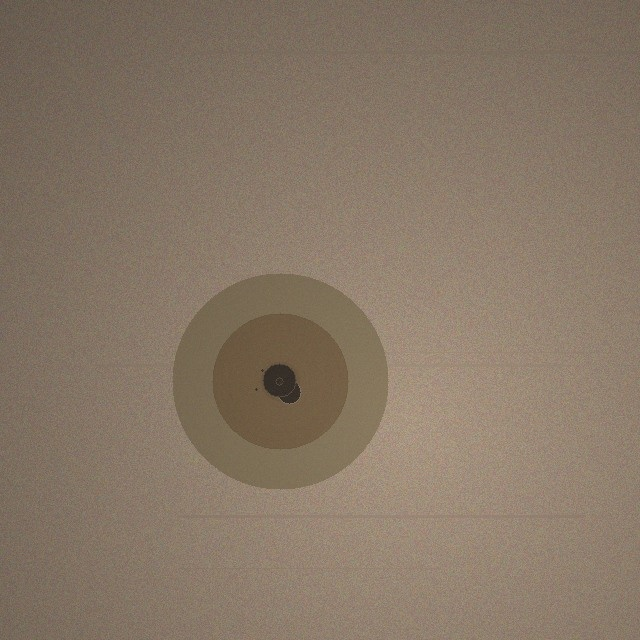shrinkage: (172, 273, 388, 489)
